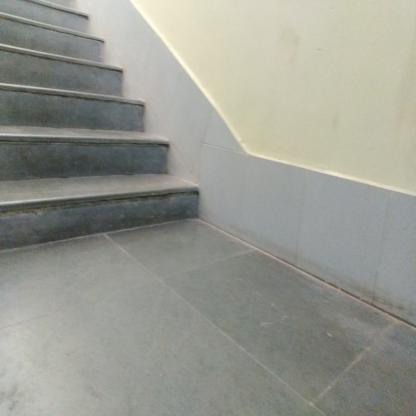stairs: (1, 34, 103, 260)
